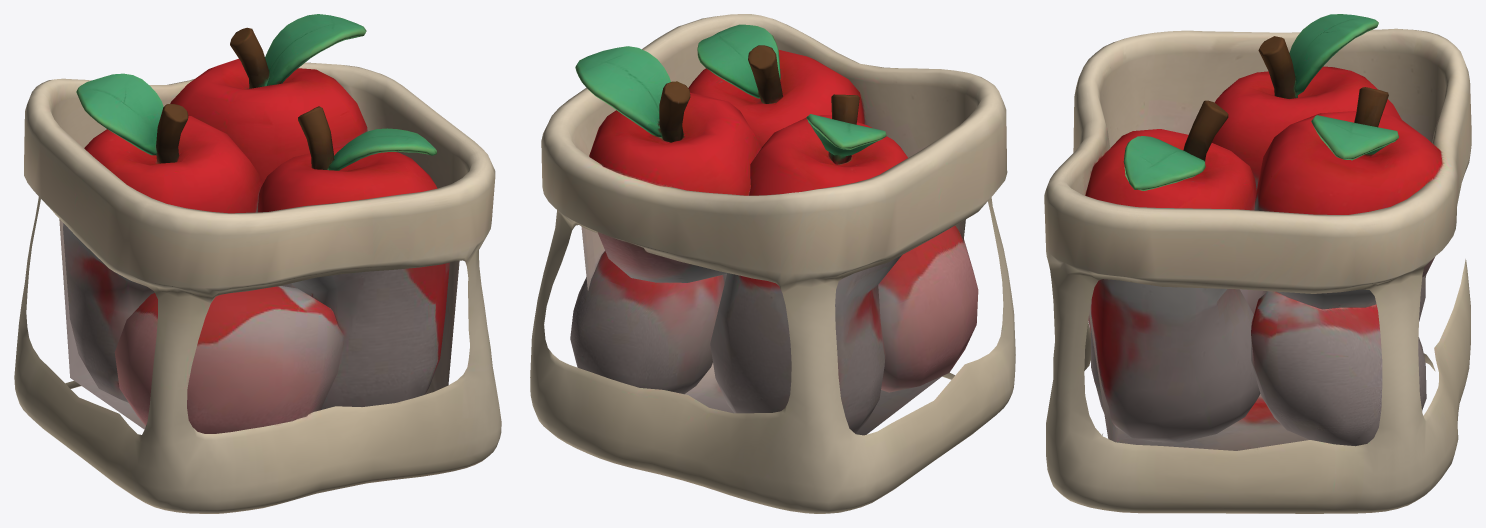
The model's file is apples.glb.
The picture shows the model from 3 angles, left to right: view 1: azimuth 30°, elevation 25°; view 2: azimuth 150°, elevation 25°; view 3: azimuth 270°, elevation 25°; orthographic projection. The views are drawn at different scales.
Visible parts, largest first — view 1: Apples; view 2: Apples; view 3: Apples.
Part boxes in pixels (x1,y1,x2,y2): Apples: (14,14,501,513); Apples: (530,14,1015,513); Apples: (1044,14,1471,513).
Size of the model in its own units: 0.998 by 0.9473 by 0.998.
1 material, 1 textured.
